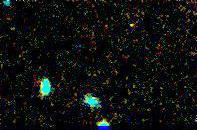star: (116, 14, 146, 44)
